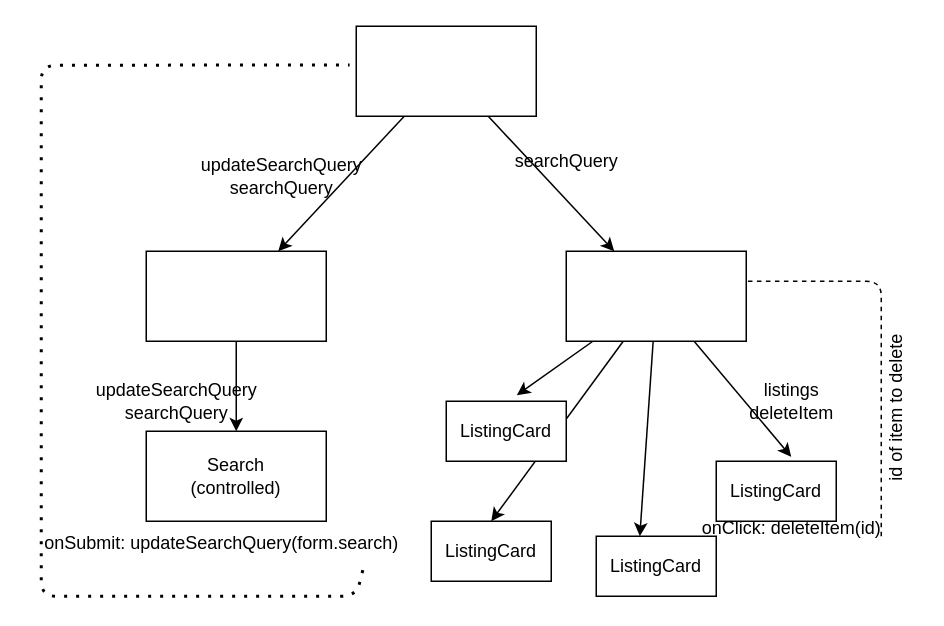
This 944x626 diagram has some shape labels left out. Each missing label, with the centre of its shape:
App searchQuery updateSearchQuery: (445,70)
Header: (235,295)
ListingsContainer state: listings cb: deleteItem: (655,295)
